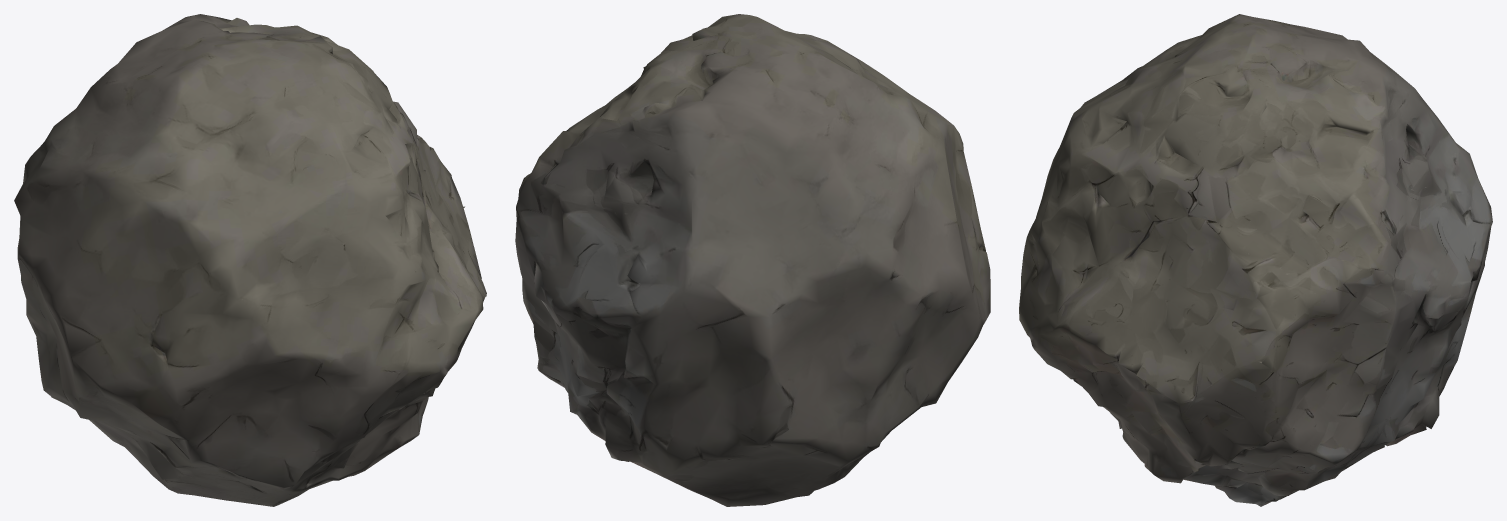
The model's file is rock_large.glb.
3 renders of one model, left to right at view 1: azimuth 30°, elevation 25°; view 2: azimuth 150°, elevation 25°; view 3: azimuth 270°, elevation 25°, orthographic. The views are drawn at different scales.
Visible parts, largest first — view 1: tripo_node_fb443a45-a155-44cc-95f0-00bf22b16dad; view 2: tripo_node_fb443a45-a155-44cc-95f0-00bf22b16dad; view 3: tripo_node_fb443a45-a155-44cc-95f0-00bf22b16dad.
Boxes of the visible parts, bbox=[...] form: tripo_node_fb443a45-a155-44cc-95f0-00bf22b16dad: bbox=[14, 14, 486, 506]; tripo_node_fb443a45-a155-44cc-95f0-00bf22b16dad: bbox=[515, 14, 990, 506]; tripo_node_fb443a45-a155-44cc-95f0-00bf22b16dad: bbox=[1019, 14, 1492, 506].
Bounding box in the file's own units: 0.9986 × 1 × 0.9881.
Materials: 1 (1 with a texture image).
